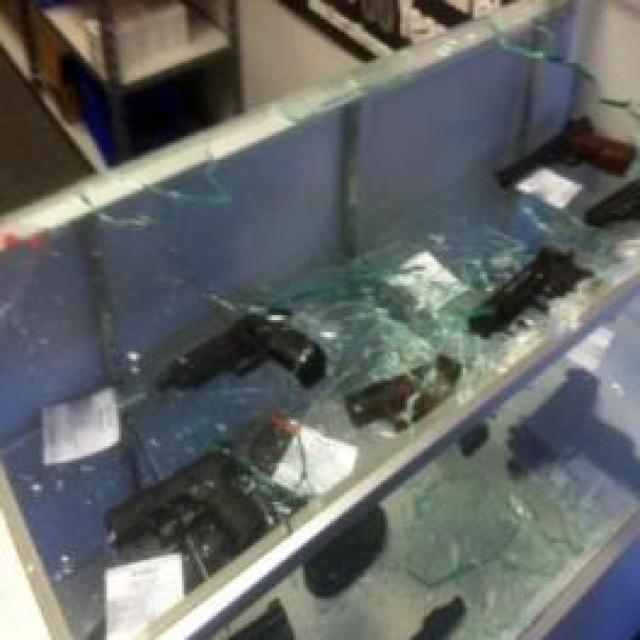pistol: (158, 303, 328, 406), (99, 448, 267, 550), (489, 111, 640, 186), (456, 247, 599, 321), (354, 352, 480, 435), (572, 177, 640, 218)
